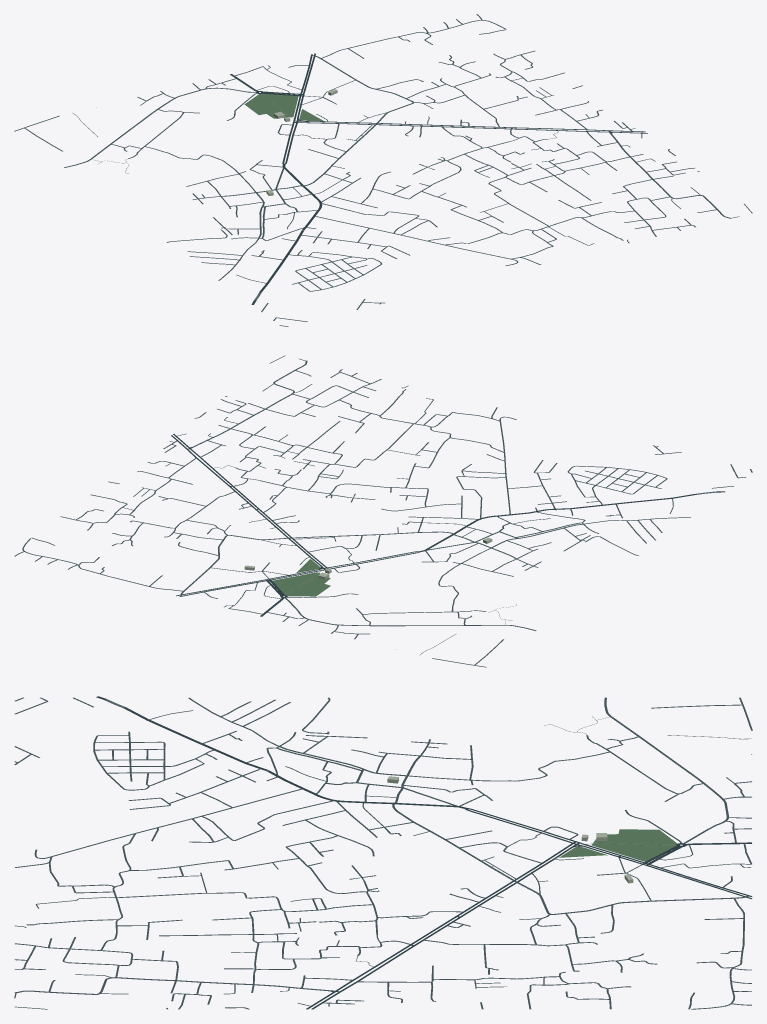
3 views of the same model, one above another, from view 1: azimuth 30°, elevation 25°; view 2: azimuth 150°, elevation 25°; view 3: azimuth 270°, elevation 25° (orthographic). The views are drawn at different scales.
Parts seen in each view (by area): view 1: street, major, green; view 2: street, major, green; view 3: street, major, green.
Boxes of the visible parts, x1=… form: street: x1=14, y1=14, x2=752, y2=326; major: x1=230, y1=53, x2=647, y2=304; green: x1=244, y1=93, x2=323, y2=121; street: x1=14, y1=355, x2=752, y2=667; major: x1=171, y1=434, x2=724, y2=616; green: x1=272, y1=559, x2=330, y2=596; street: x1=14, y1=697, x2=752, y2=1009; major: x1=96, y1=696, x2=752, y2=1009; green: x1=559, y1=829, x2=677, y2=861.
Size of the model in its own units: 2006 by 10.57 by 2005.
